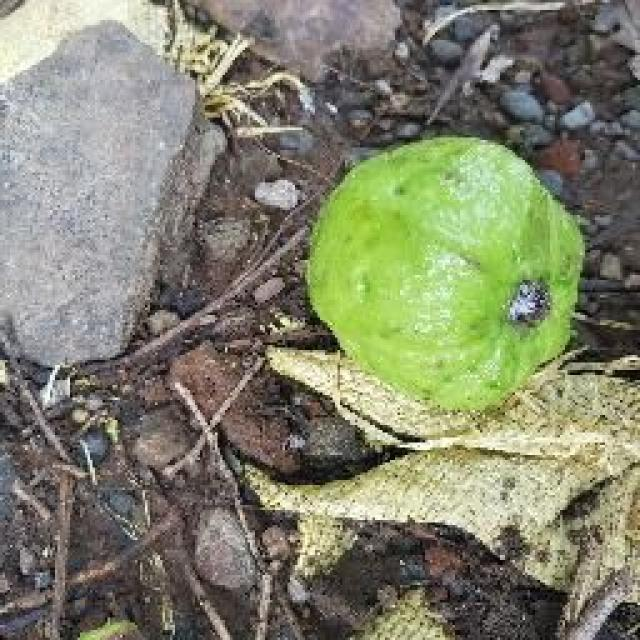Good_Guava: (305, 135, 588, 415)
